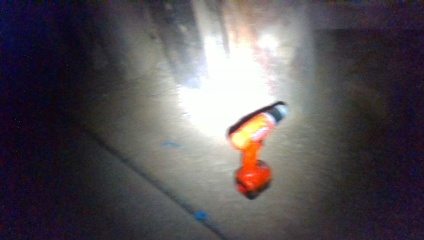drill: (216, 98, 289, 200)
